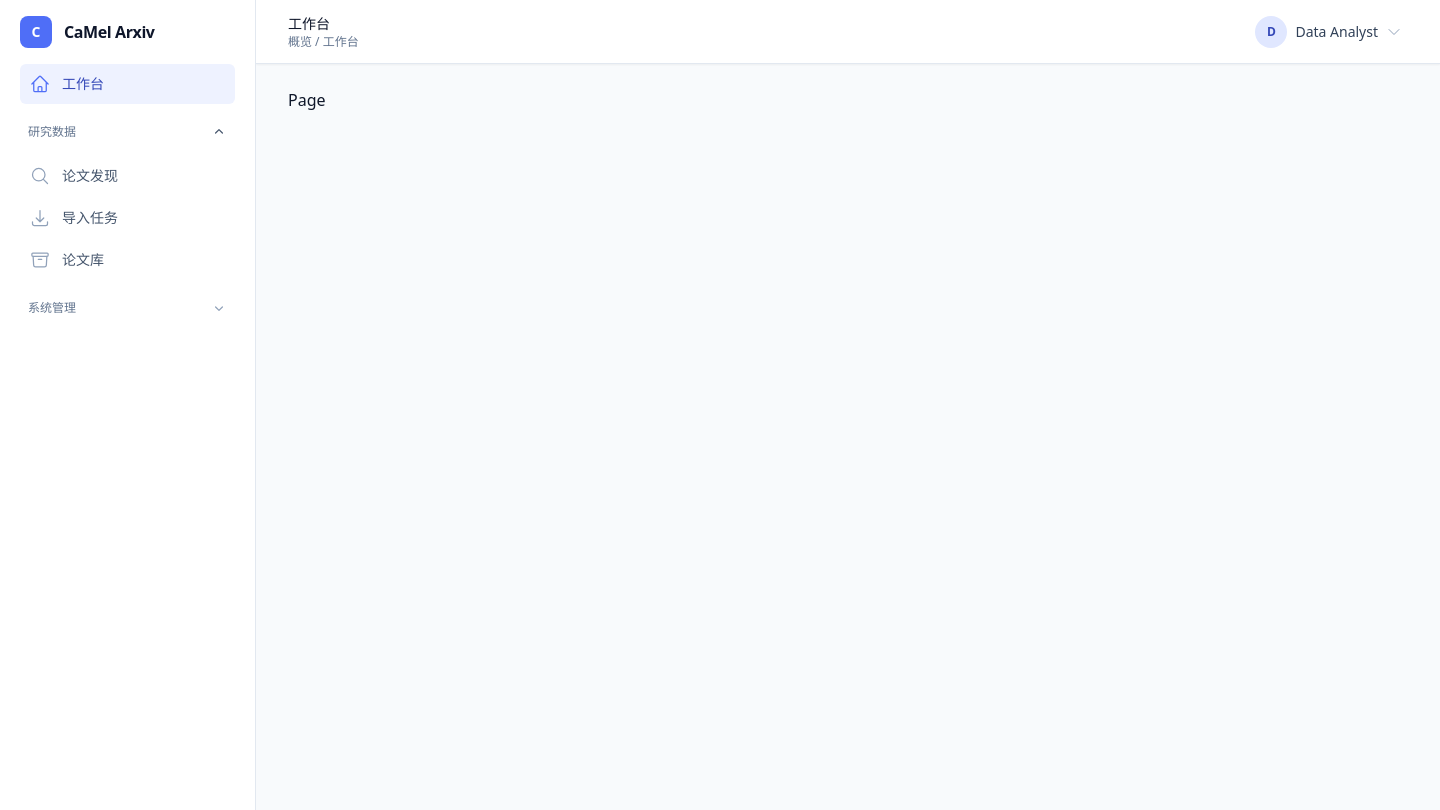
Test case: AppShell › shows only navigation entries granted by the live permission set
What coordinates should you click on to do the following:
click the button "系统管理"
I would click on:
 (128, 308)
Its box is 20,288 -> 235,328.
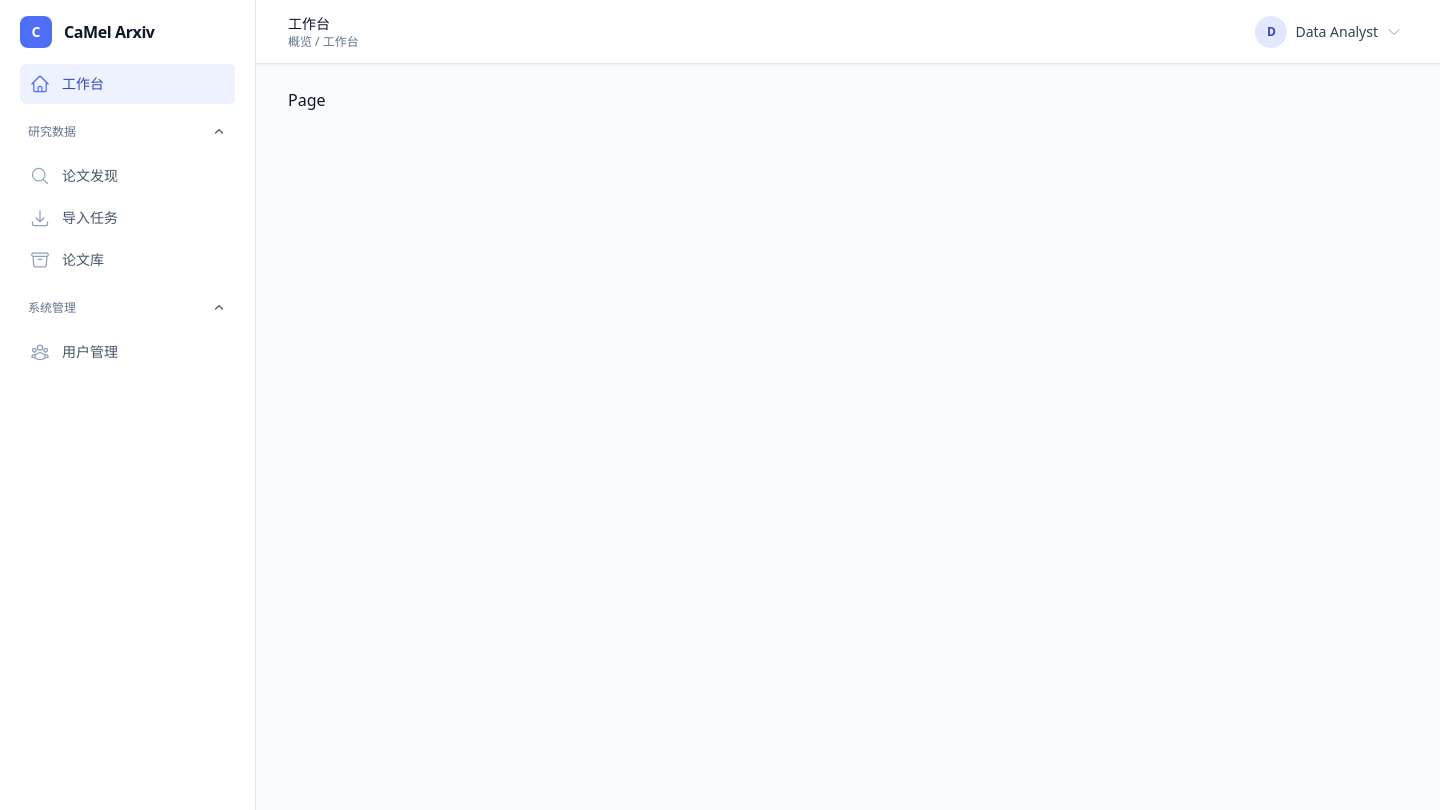
Expected: the text "论文库" is shown, 62,250 -> 104,270
Expected: the text "用户管理" is shown, 62,342 -> 118,362
